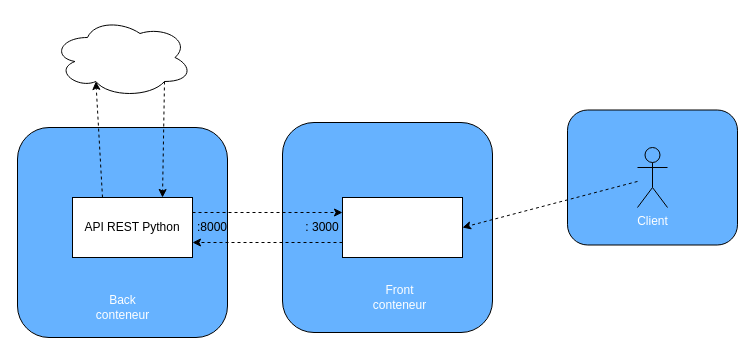
The diagram is 755 pixels wide and 355 high, and some of its shapes have lost their labels. The shapes that lost their labels are listed below. From the top down, each one's centre as x and y in pixels, then its label:
the point at 122,57: Firestore Database NoSQL
the point at 402,227: Application Web React.js
